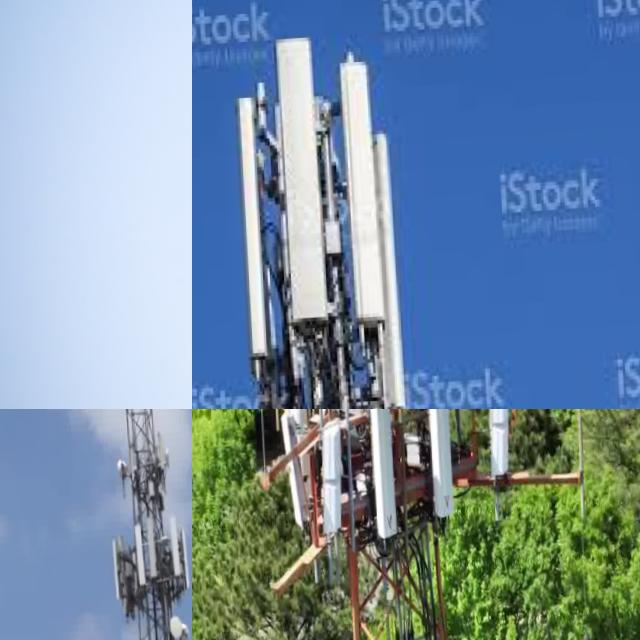GSM Antenna: (265, 30, 326, 330), (334, 45, 385, 333), (225, 93, 272, 372), (357, 120, 402, 409), (356, 409, 400, 566), (419, 409, 461, 537), (274, 416, 308, 538), (315, 424, 344, 551), (476, 409, 517, 493), (161, 518, 181, 590), (130, 524, 144, 599), (140, 517, 157, 578)
Microwave Antenna: (163, 616, 181, 640), (114, 461, 126, 488), (161, 449, 171, 474), (177, 624, 192, 640)
